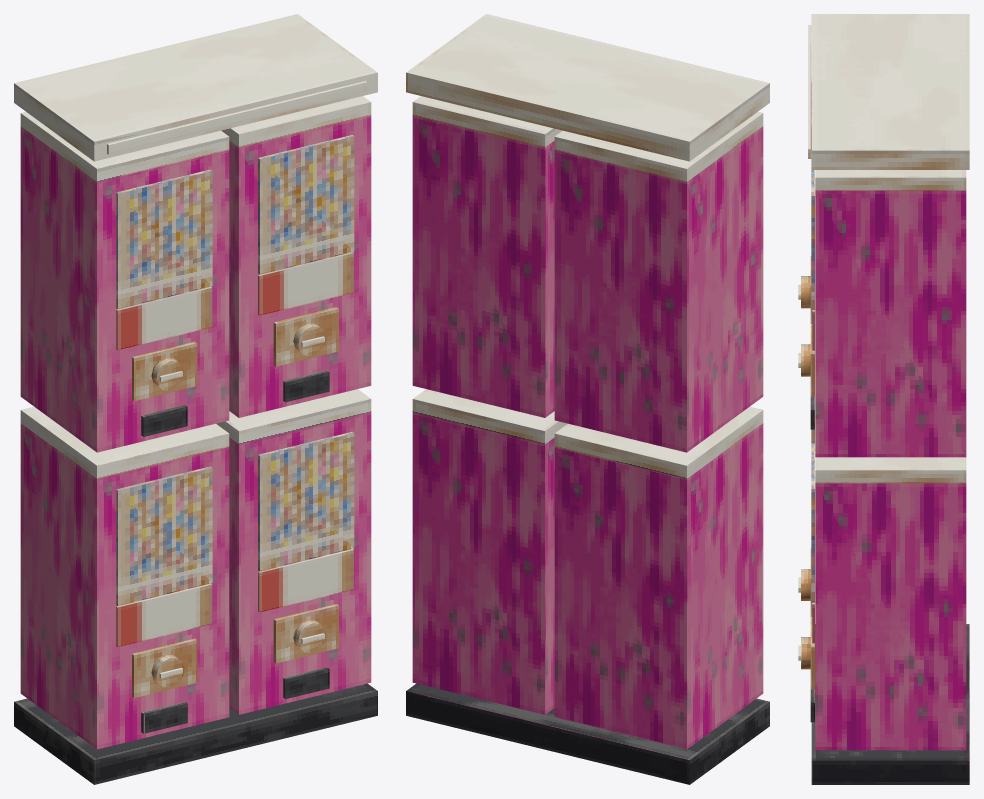
The model's file is route_pink.glb.
3 views of the same model, side by side, from view 1: azimuth 30°, elevation 25°; view 2: azimuth 150°, elevation 25°; view 3: azimuth 270°, elevation 25° (orthographic).
Parts seen in each view (by area): view 1: mesh; view 2: mesh; view 3: mesh.
Part boxes in pixels (<box>): mesh: <box>14,14,377,784</box>; mesh: <box>406,14,769,784</box>; mesh: <box>798,14,969,784</box>.
Bounding box in the file's own units: 0.8999 × 1.95 × 0.478.
1 material, 1 textured.
